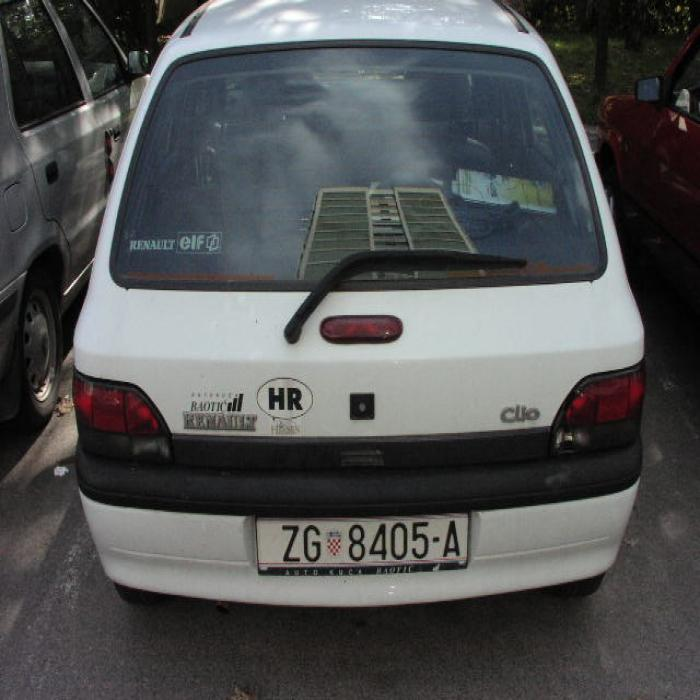number_plate: (255, 520, 464, 564)
